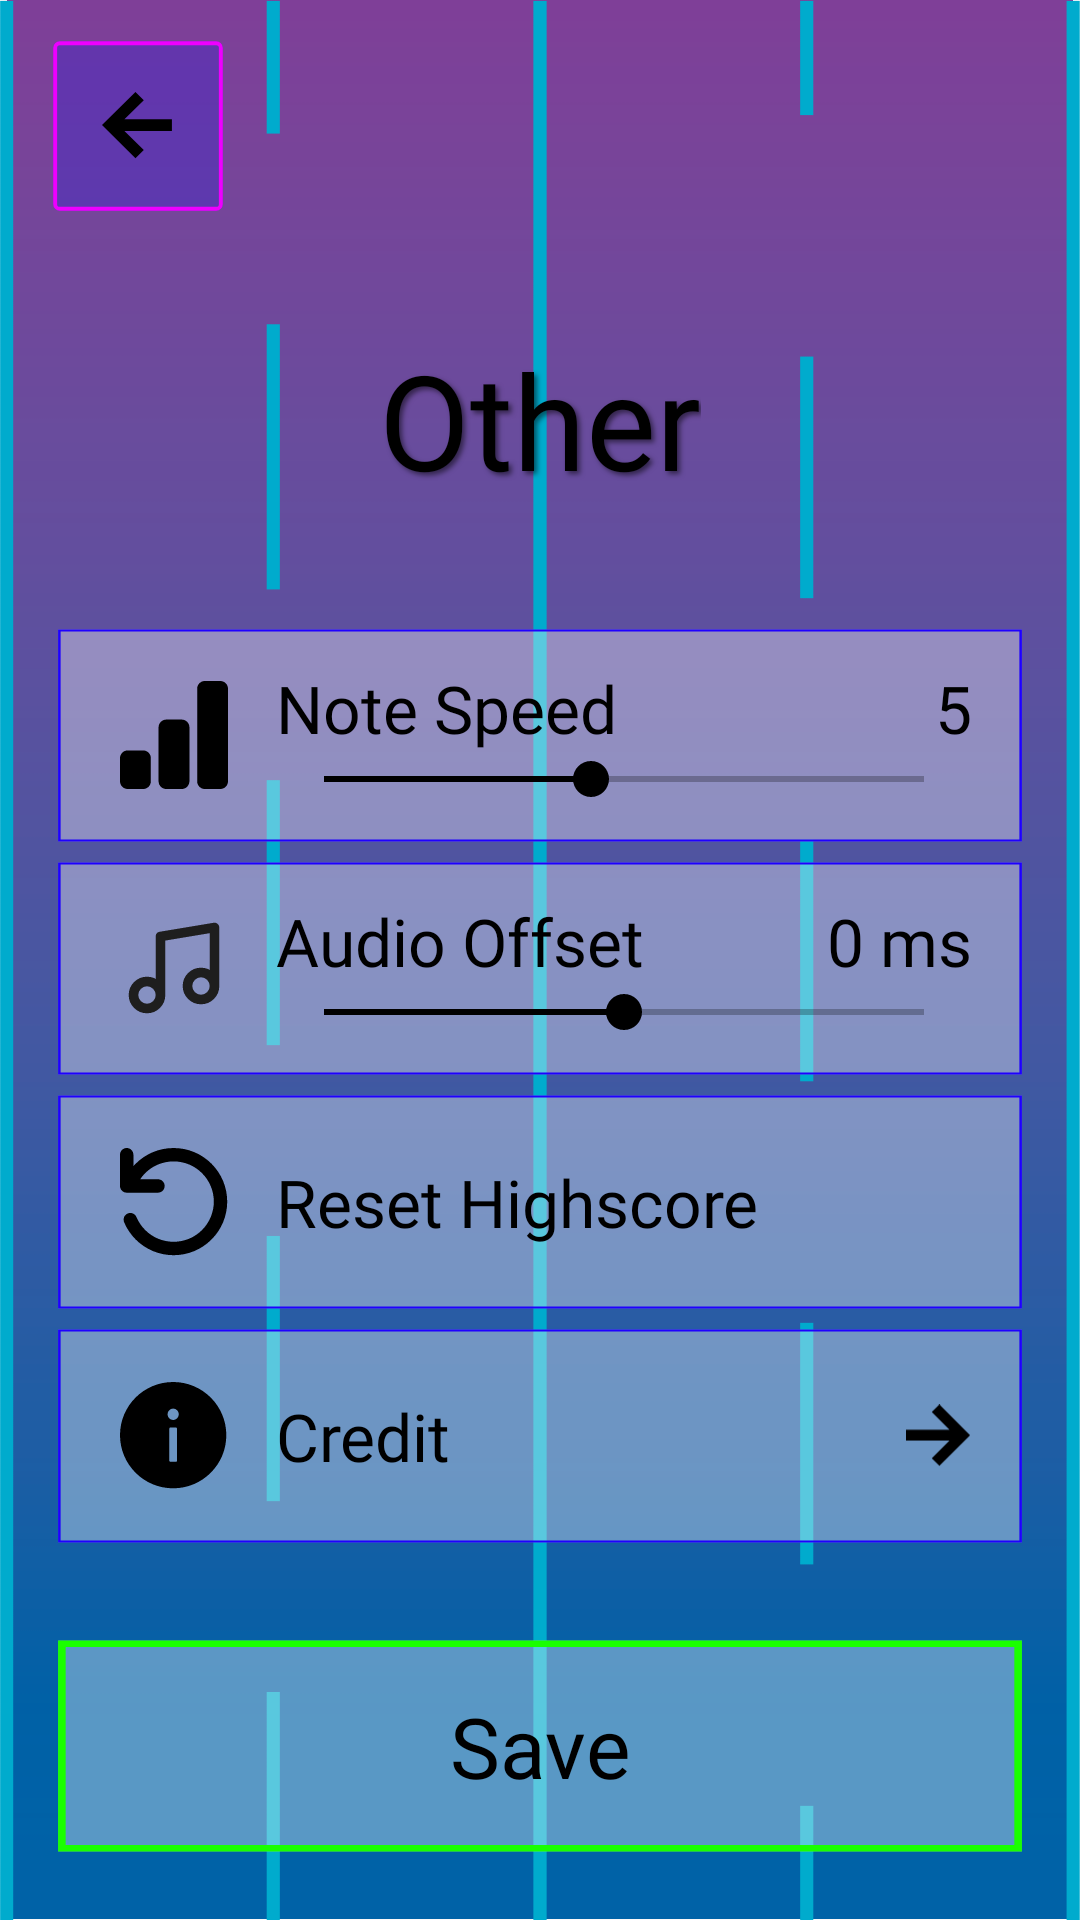

Screen size 1080px x 1920px. Icon name, then its box in pixels as (x1, y1, x2, y2):
Back: (53, 41, 223, 211)
difficulty: (120, 681, 228, 789)
music: (128, 922, 220, 1014)
next: (906, 1404, 970, 1466)
retry: (120, 1148, 228, 1256)
